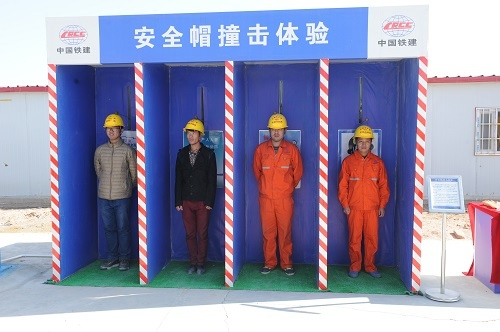yellow: (352, 124, 375, 156), (266, 111, 288, 143), (184, 118, 206, 148), (102, 113, 124, 143)
